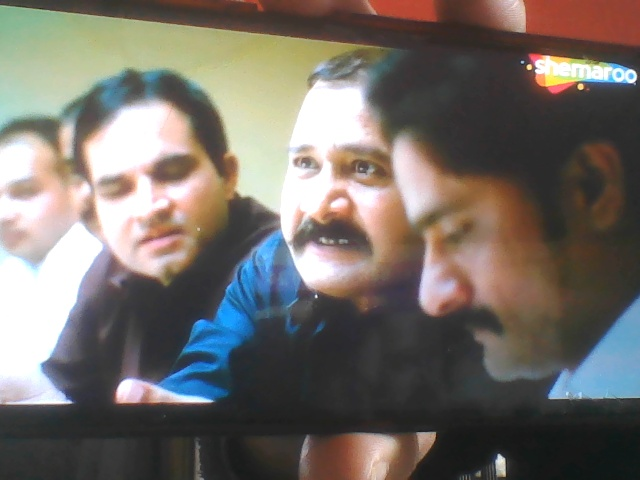fake: (386, 50, 616, 376), (77, 66, 236, 292)
